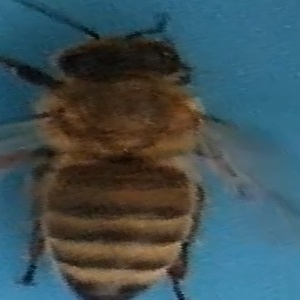bee: (13, 11, 258, 300)
